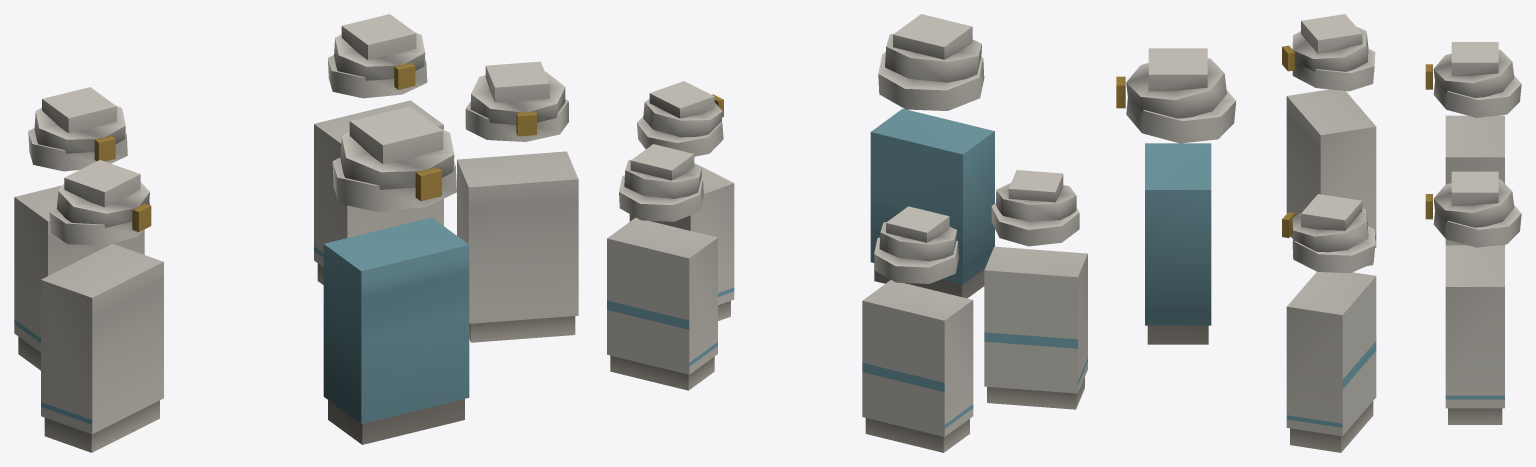
File: lather-linen-lod2.glb
3 views of the same model, side by side, from view 1: azimuth 30°, elevation 25°; view 2: azimuth 150°, elevation 25°; view 3: azimuth 270°, elevation 25° (orthographic). The views are drawn at different scales.
Visible parts, largest first — view 1: cap_torso, att3_torso, att2_torso, cap_hat, att1_torso, att2_hat, att3_hat, att0_hat, att1_hat, att0_torso; view 2: att1_torso, att0_torso, att3_torso, cap_torso, cap_hat, att3_hat, att0_hat, att1_hat, att2_hat, att2_torso; view 3: att2_torso, cap_torso, att0_torso, att3_torso, cap_hat, att2_hat, att0_hat, att1_hat, att3_hat, att1_torso.
Boxes of the visible parts, x1,y1,x2,y2 form: cap_torso: (323,217,469,444); att3_torso: (41,243,163,452); att2_torso: (457,151,578,342); cap_hat: (332,106,456,211); att1_torso: (14,185,144,370); att2_hat: (465,61,568,141); att3_hat: (49,160,151,245); att0_hat: (327,14,427,98); att1_hat: (28,87,127,171); att0_torso: (314,100,443,284); att1_torso: (862,280,973,452); att0_torso: (607,217,717,390); att3_torso: (984,246,1087,409); cap_torso: (870,108,994,298); cap_hat: (878,14,984,110); att3_hat: (991,170,1079,246); att0_hat: (619,144,703,221); att1_hat: (874,206,958,283); att2_hat: (637,81,723,156); att2_torso: (629,163,734,320); att2_torso: (1286,272,1376,452); cap_torso: (1145,143,1211,344); att0_torso: (1445,245,1504,424); att3_torso: (1286,89,1376,265); cap_hat: (1116,48,1236,143); att2_hat: (1282,194,1375,273); att0_hat: (1425,171,1521,247); att1_hat: (1425,42,1521,117); att3_hat: (1282,14,1375,91); att1_torso: (1445,115,1504,245).
Size of the model in its own units: 2.18 by 1.24 by 1.64.
